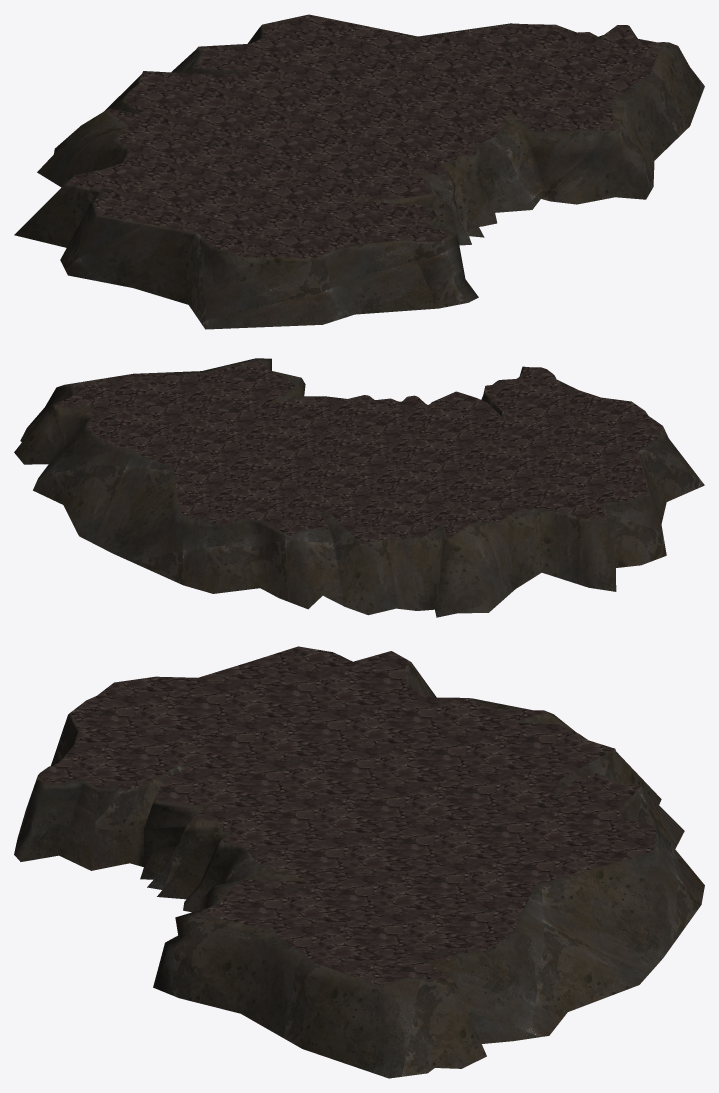
Rendered from SM_Ground_Island_01.fbx.
The picture shows the model from 3 angles, top to bottom: view 1: azimuth 30°, elevation 25°; view 2: azimuth 150°, elevation 25°; view 3: azimuth 270°, elevation 25°; orthographic projection. The views are drawn at different scales.
Parts seen in each view (by area): view 1: SM_Ground_Island_01; view 2: SM_Ground_Island_01; view 3: SM_Ground_Island_01.
Boxes of the visible parts, box(x1,y1,x2,y2) form: SM_Ground_Island_01: box(14, 14, 704, 329); SM_Ground_Island_01: box(14, 358, 704, 617); SM_Ground_Island_01: box(14, 646, 704, 1078).
Bounding box in the file's own units: 35.58 × 2.98 × 27.34.
Materials: 2 (2 with a texture image).
